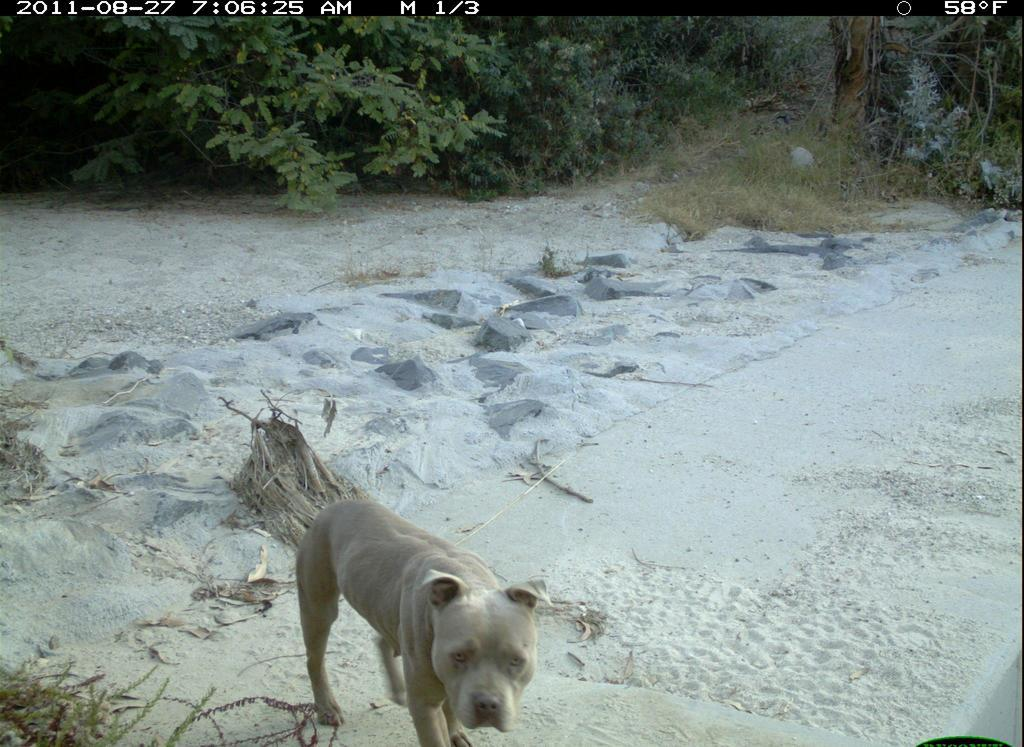dog: (292, 488, 560, 739)
